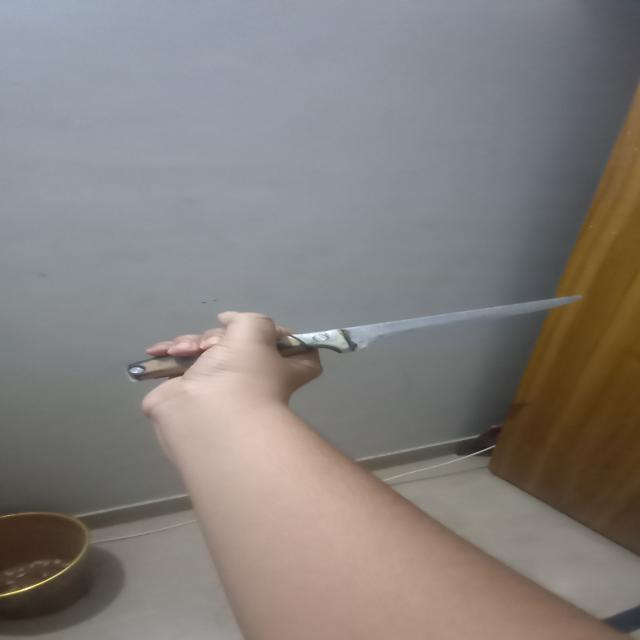Knife: (110, 290, 589, 378)
